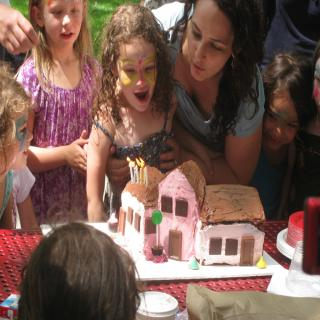Cake: (118, 160, 266, 265)
